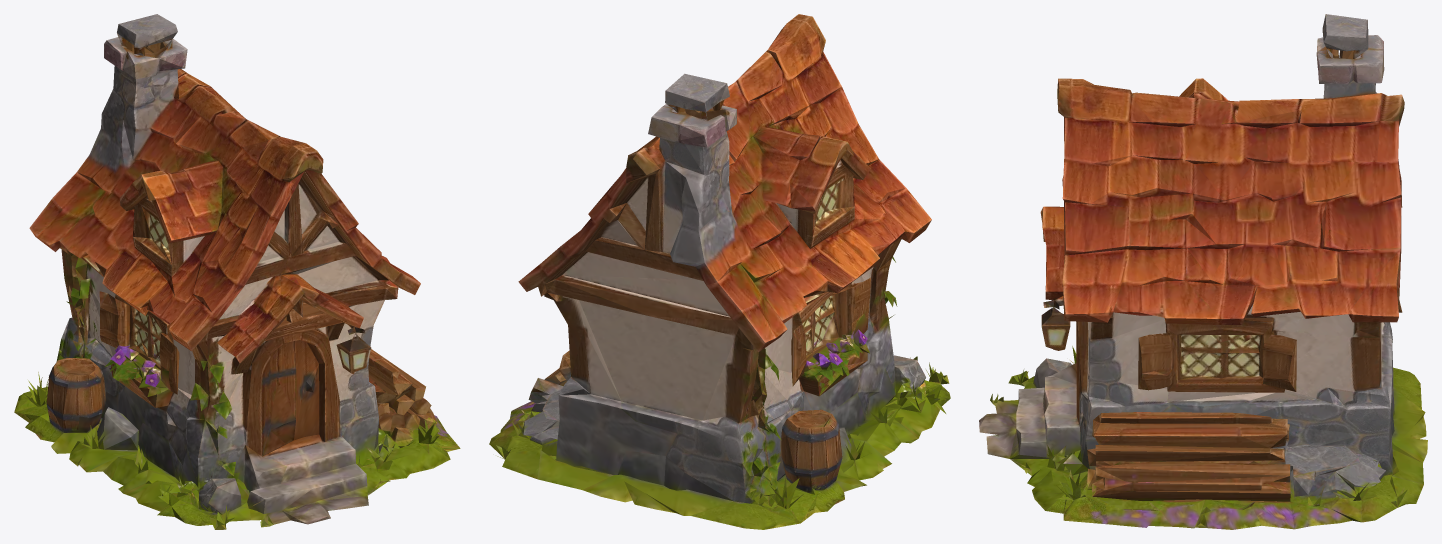
The model's file is small_house.glb.
3 views of the same model, side by side, from view 1: azimuth 30°, elevation 25°; view 2: azimuth 150°, elevation 25°; view 3: azimuth 270°, elevation 25° (orthographic). The views are drawn at different scales.
Visible parts, largest first — view 1: output_unwrapped; view 2: output_unwrapped; view 3: output_unwrapped.
Boxes of the visible parts, left/top/right/bottom form: output_unwrapped: left=14, top=14, right=460, bottom=529; output_unwrapped: left=489, top=14, right=950, bottom=529; output_unwrapped: left=979, top=14, right=1427, bottom=529.
Bounding box in the file's own units: 1.7 × 1.86 × 1.88.
1 material, 1 textured.
